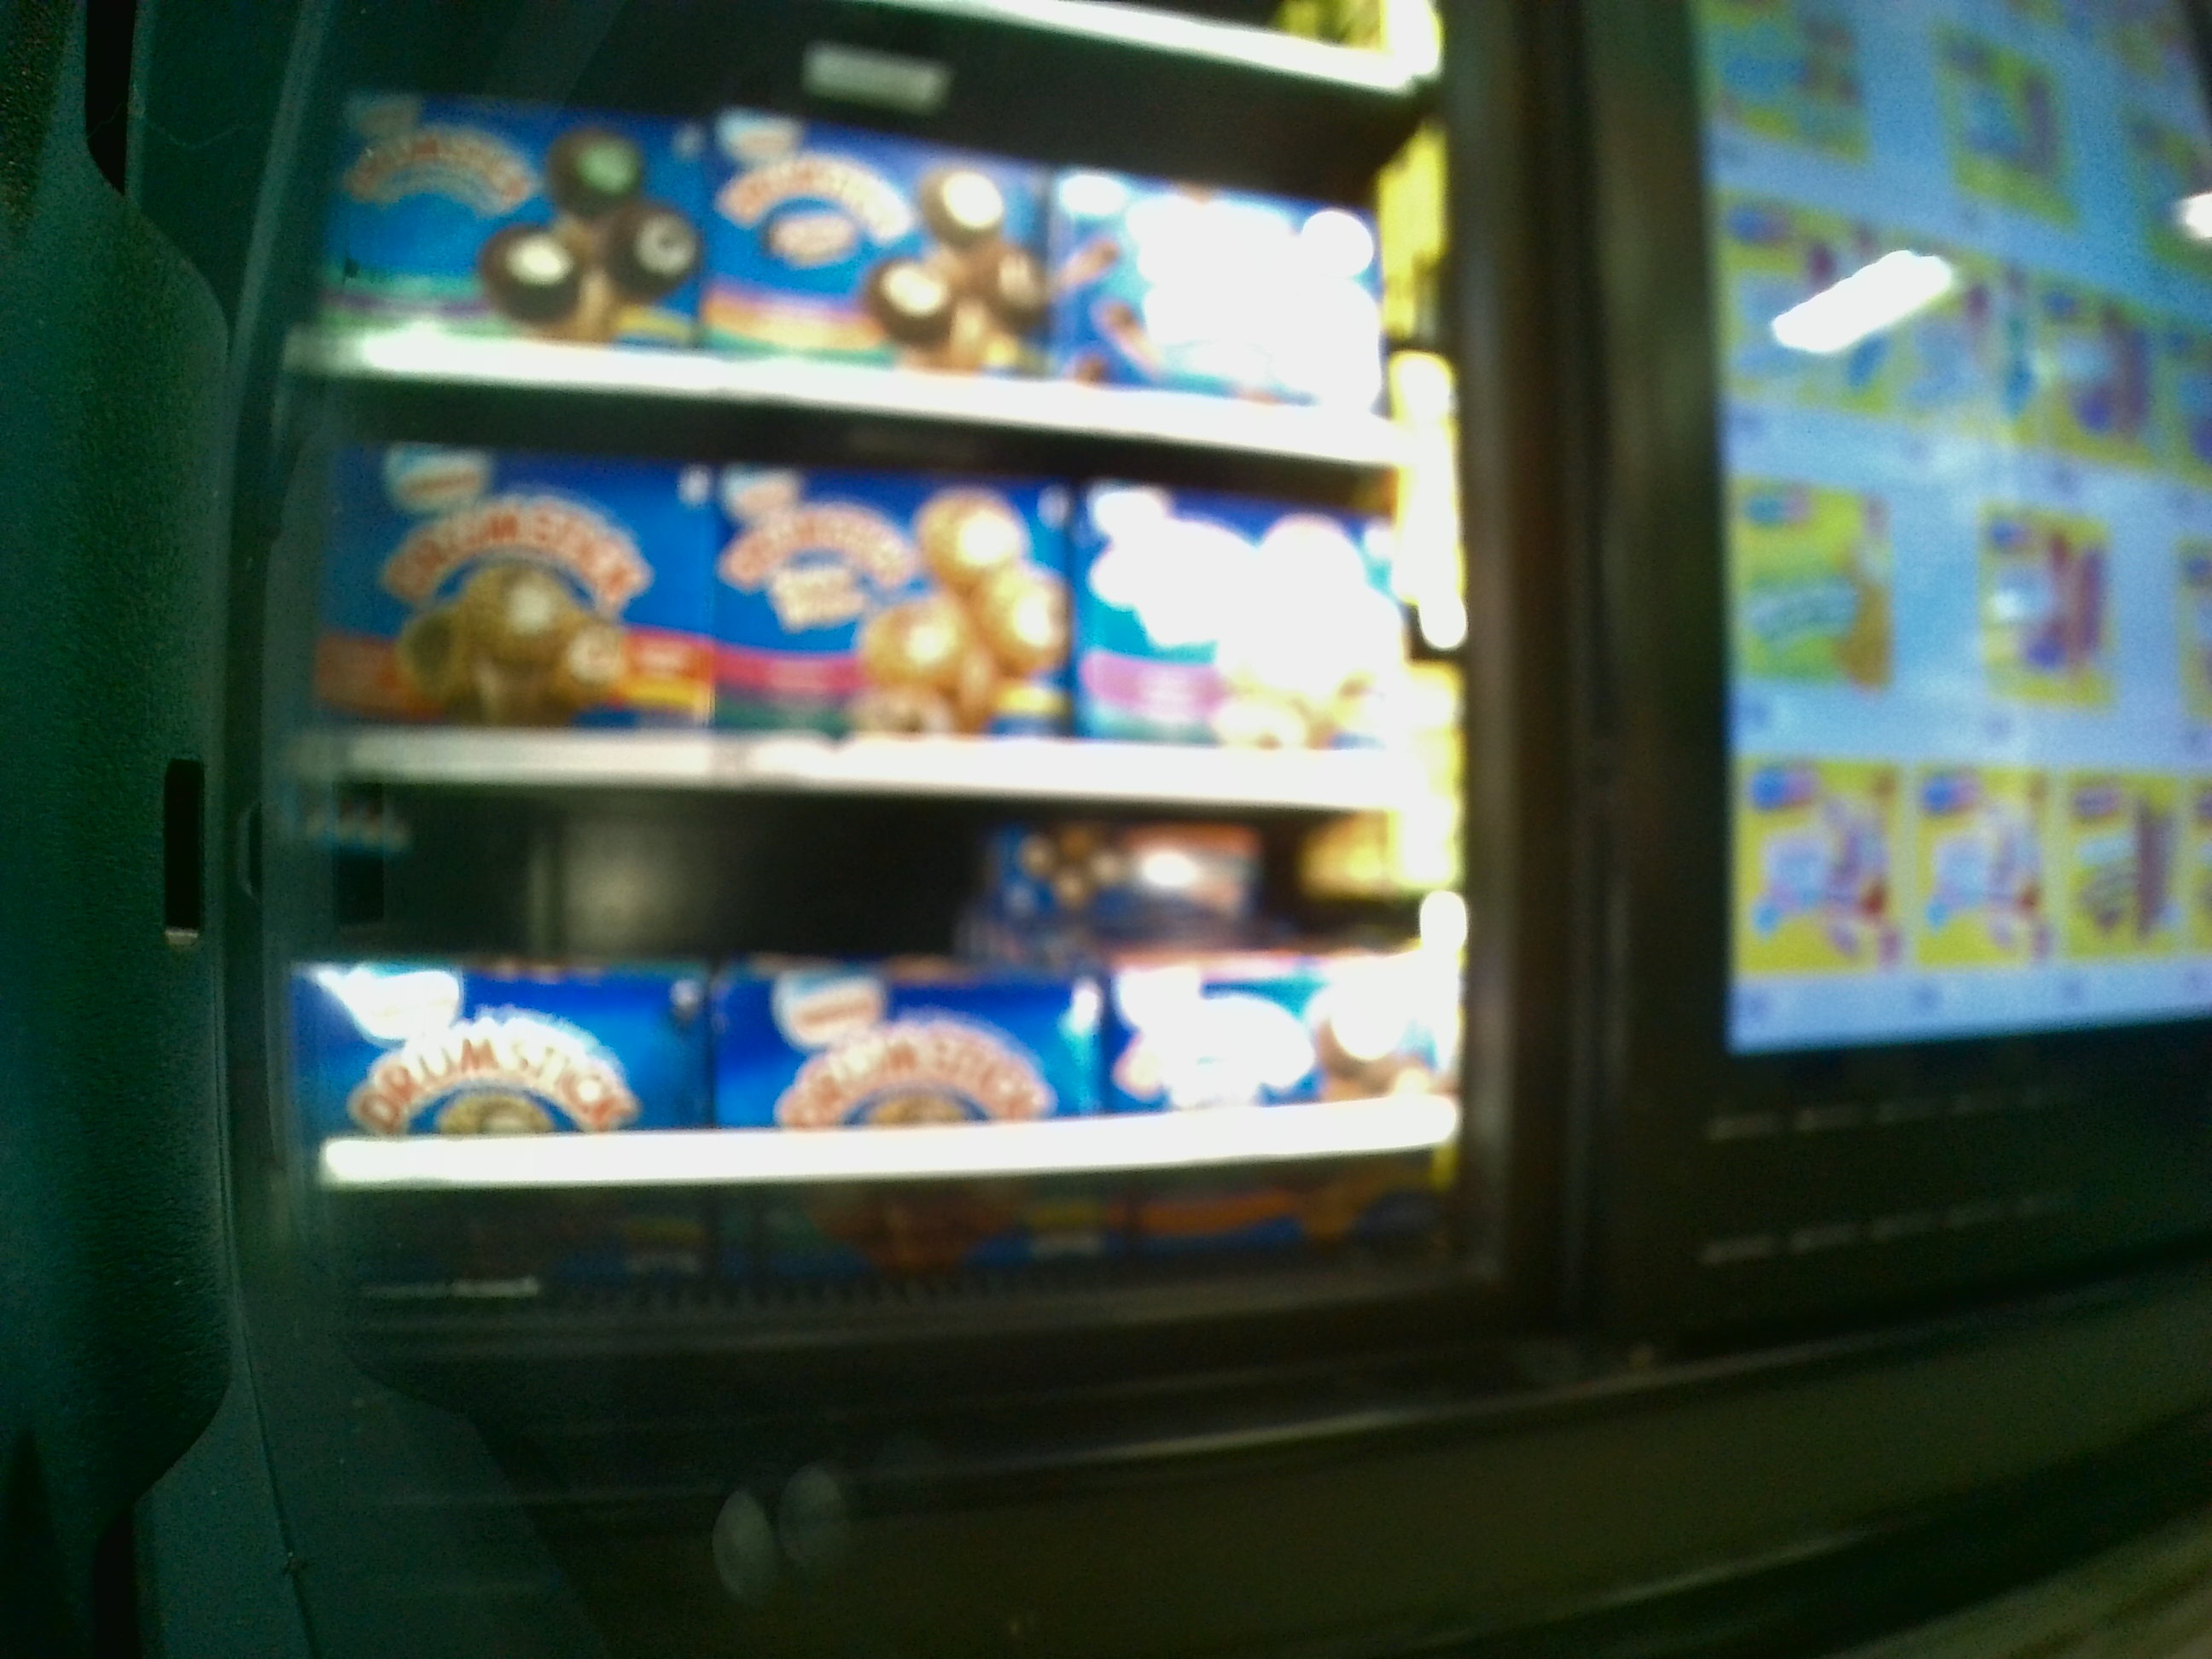shelf: (331, 788, 1439, 1272), (326, 422, 1433, 802)
